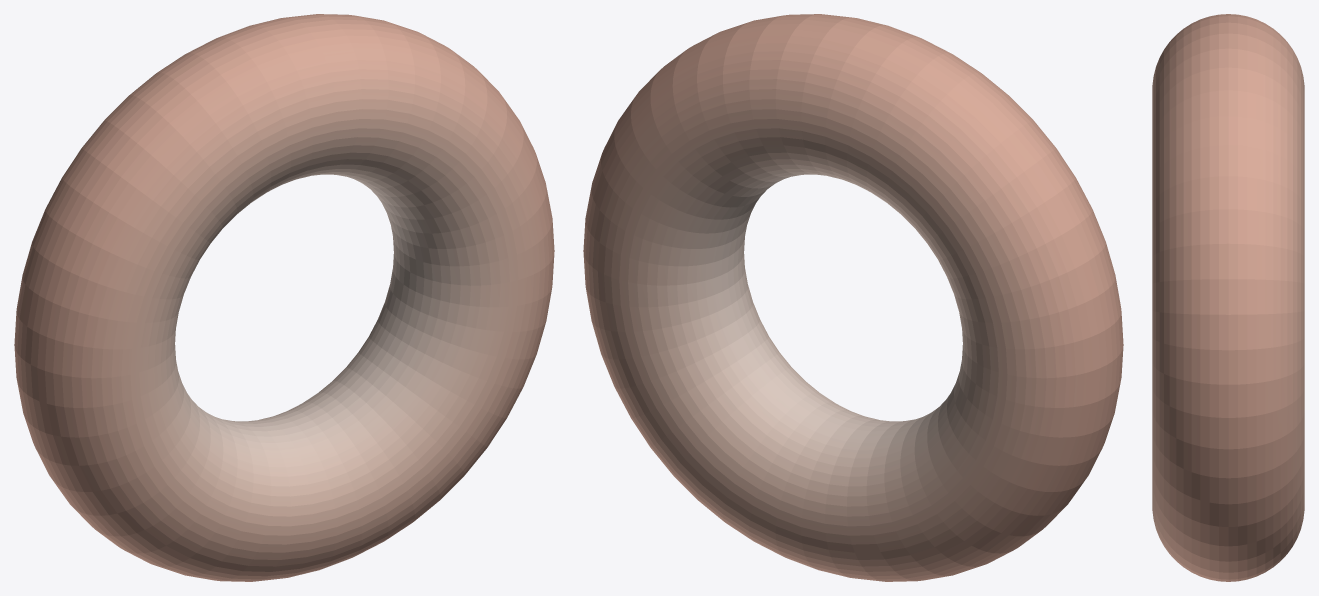
3 renders of one model, left to right at view 1: azimuth 30°, elevation 25°; view 2: azimuth 150°, elevation 25°; view 3: azimuth 270°, elevation 25°, orthographic. The views are drawn at different scales.
Parts seen in each view (by area): view 1: world; view 2: world; view 3: world.
Boxes of the visible parts, left/top/right/bottom form: world: left=14, top=14, right=554, bottom=581; world: left=583, top=14, right=1123, bottom=581; world: left=1152, top=14, right=1304, bottom=581.
Bounding box in the file's own units: 27.33 × 27.28 × 7.32.
